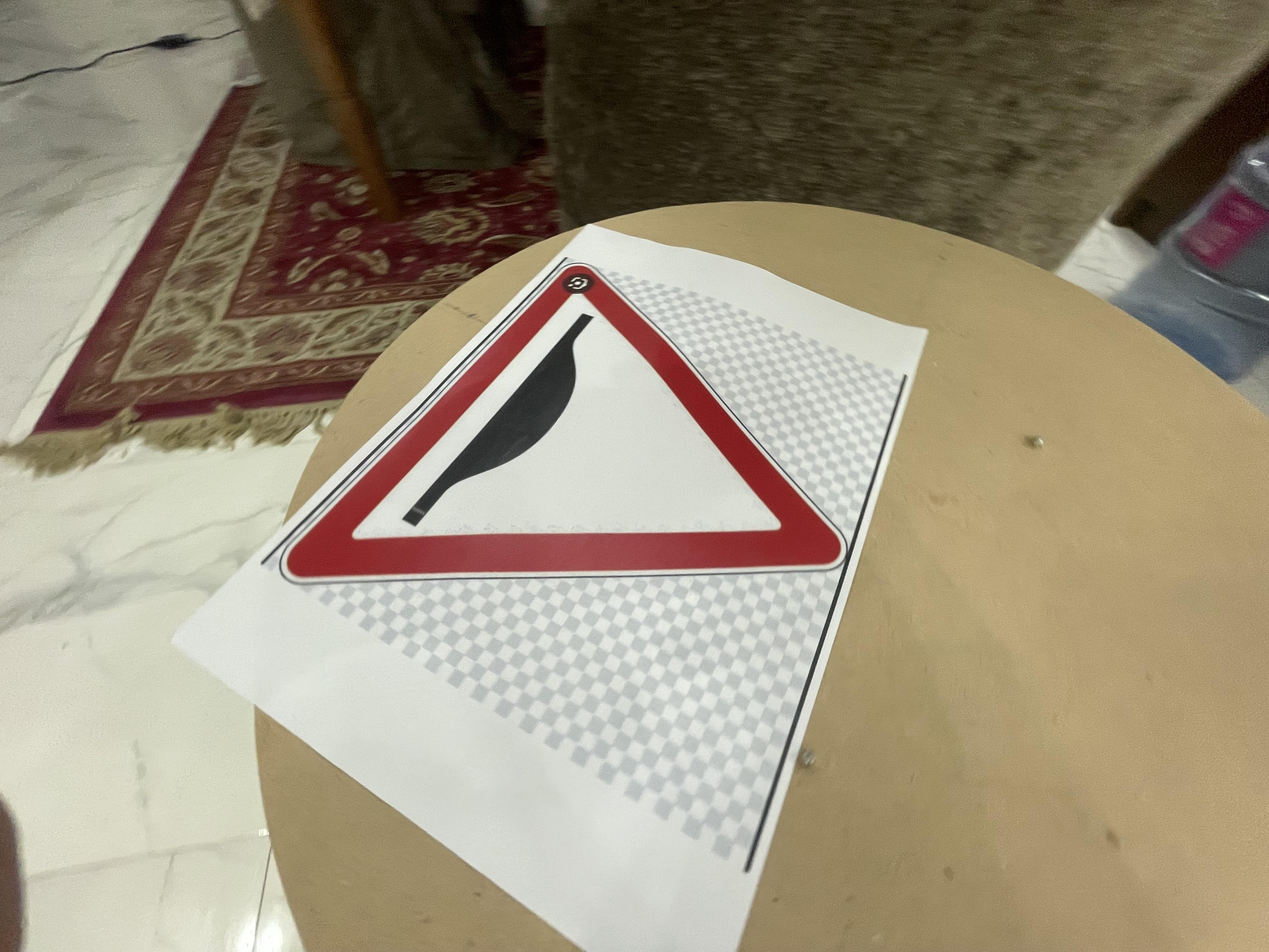Hump: (274, 249, 842, 592)
